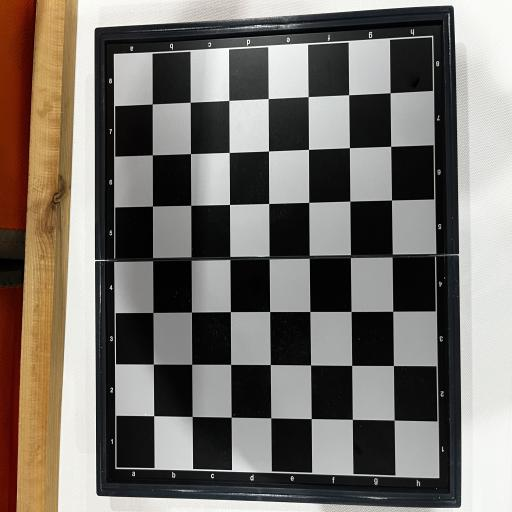Board: (94, 5, 461, 508)
